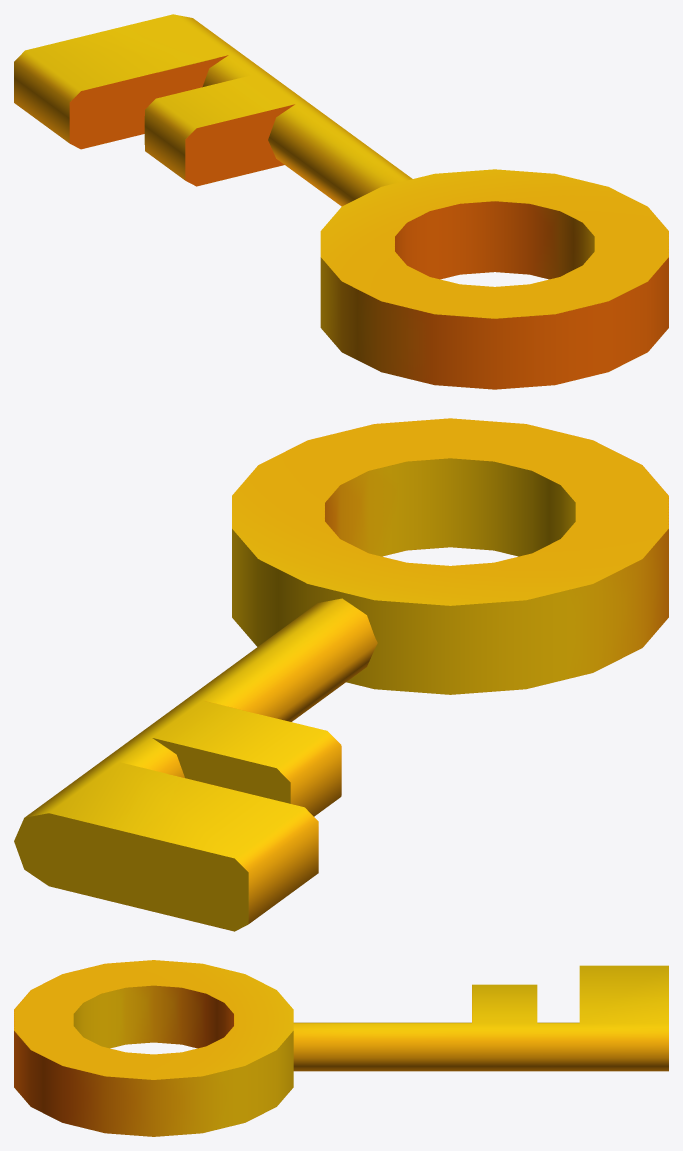
The model's file is Key.FBX.
3 renders of one model, top to bottom at view 1: azimuth 30°, elevation 25°; view 2: azimuth 150°, elevation 25°; view 3: azimuth 270°, elevation 25°, orthographic. The views are drawn at different scales.
Visible parts, largest first — view 1: Key; view 2: Key; view 3: Key.
Boxes of the visible parts, box(x1,y1,x2,y2) form: Key: box(14, 14, 668, 389); Key: box(14, 418, 668, 931); Key: box(14, 960, 668, 1136).
Size of the model in its own units: 14.47 by 3.13 by 32.62.
1 material, 1 textured.
